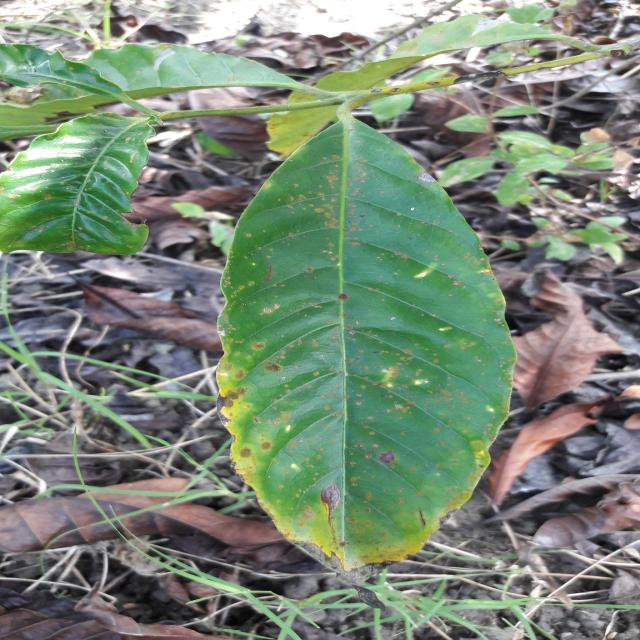Enfermedad-Roya: (218, 102, 512, 573)
